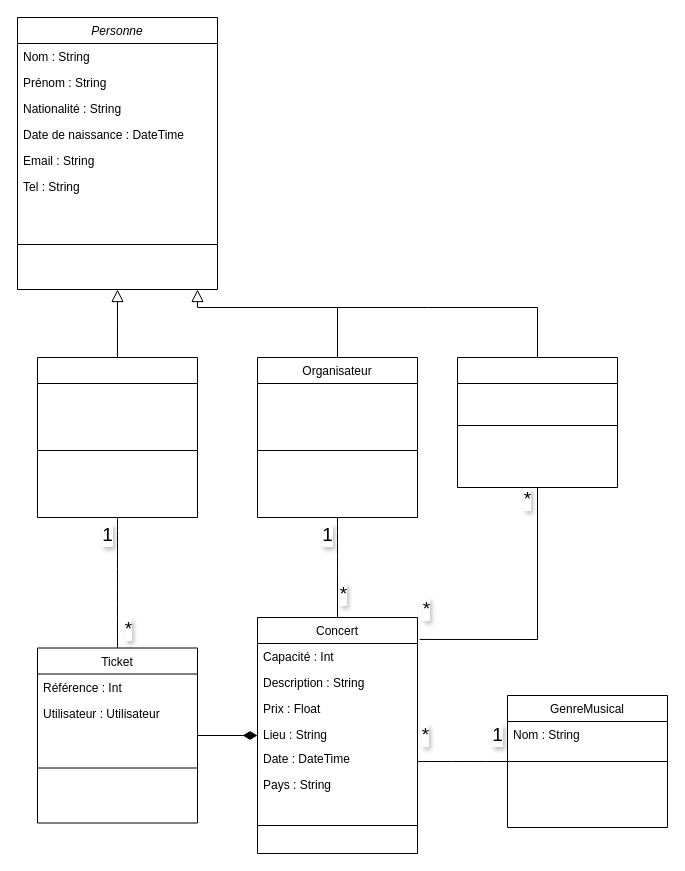
The diagram is 685 pixels wide and 871 high, and some of its shapes have lost their labels. The centre of each missing label's shape, as x and y in pixels:
"Artiste" goes at (537,422).
"Utilisateur" goes at (117,437).
